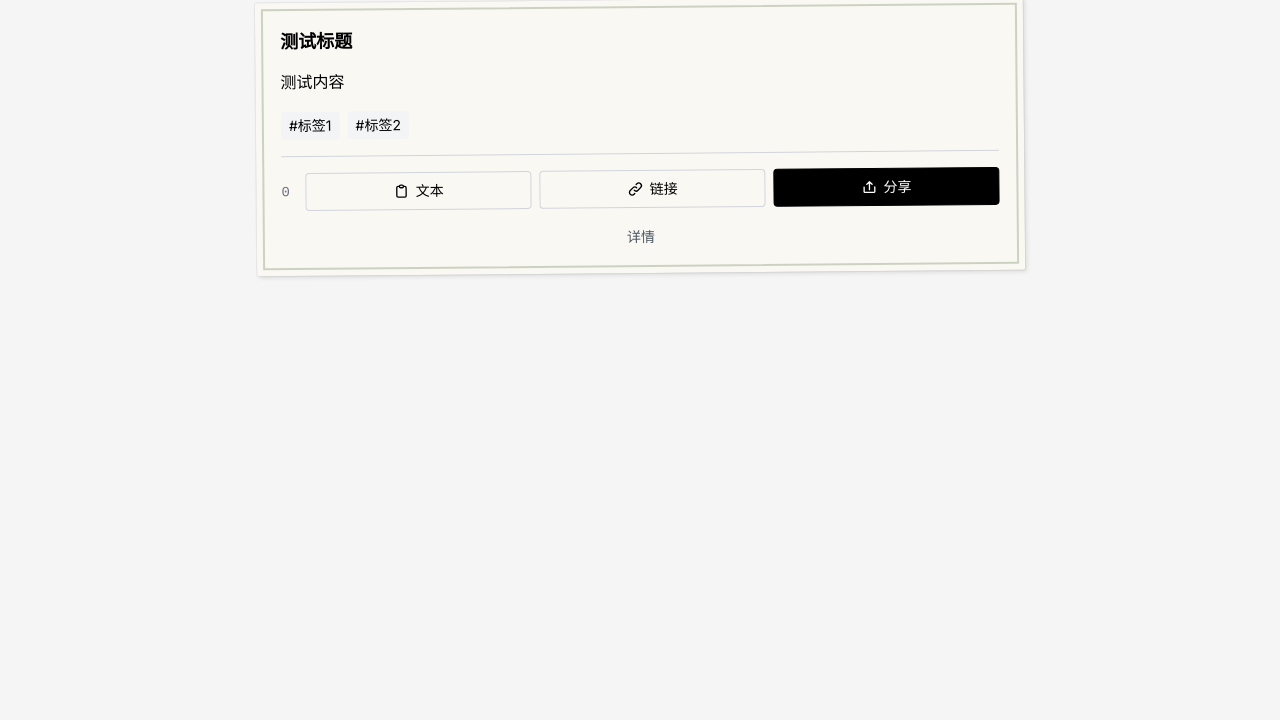
Test case: MemoCard › should close share modal when close button is clicked
Click the button "分享".
click(886, 187)  # box [773,167,1000,207]
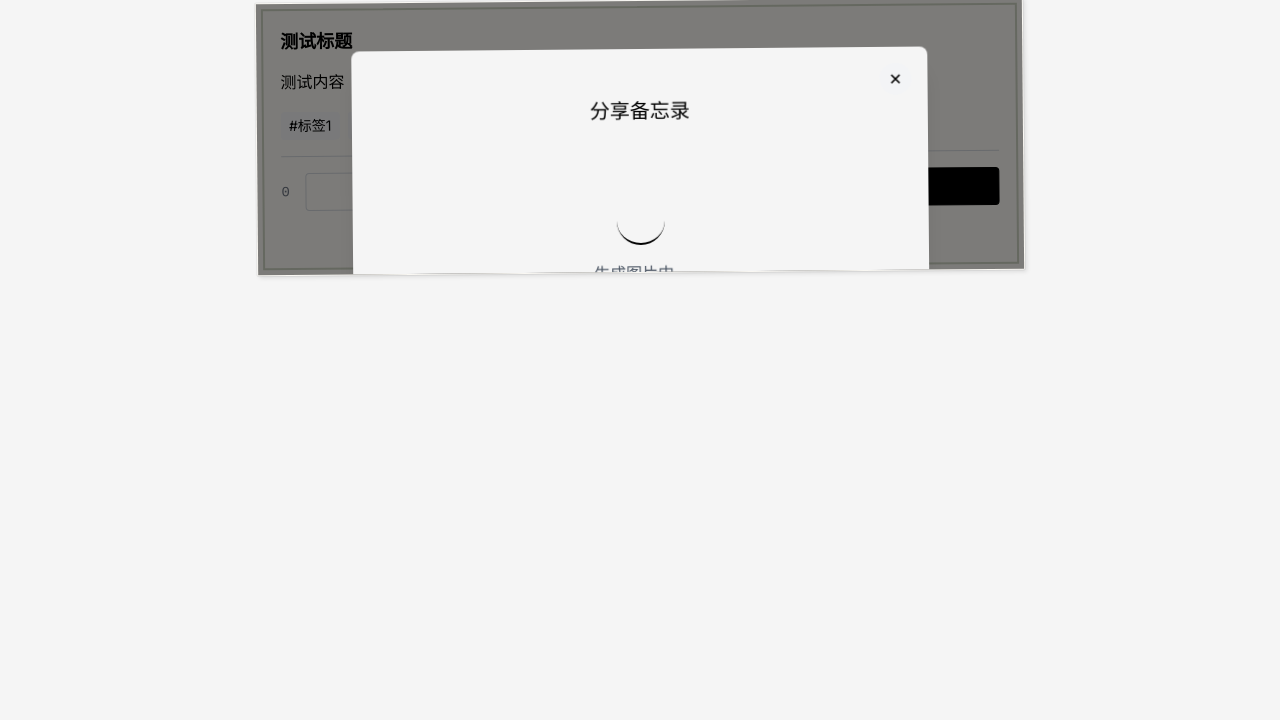
Result: the heading "分享备忘录" is shown at [590,99,690,124]
# Find and click close button using aria-label
Click the button labelled "✕".
click(896, 79)  # box [879,63,912,95]
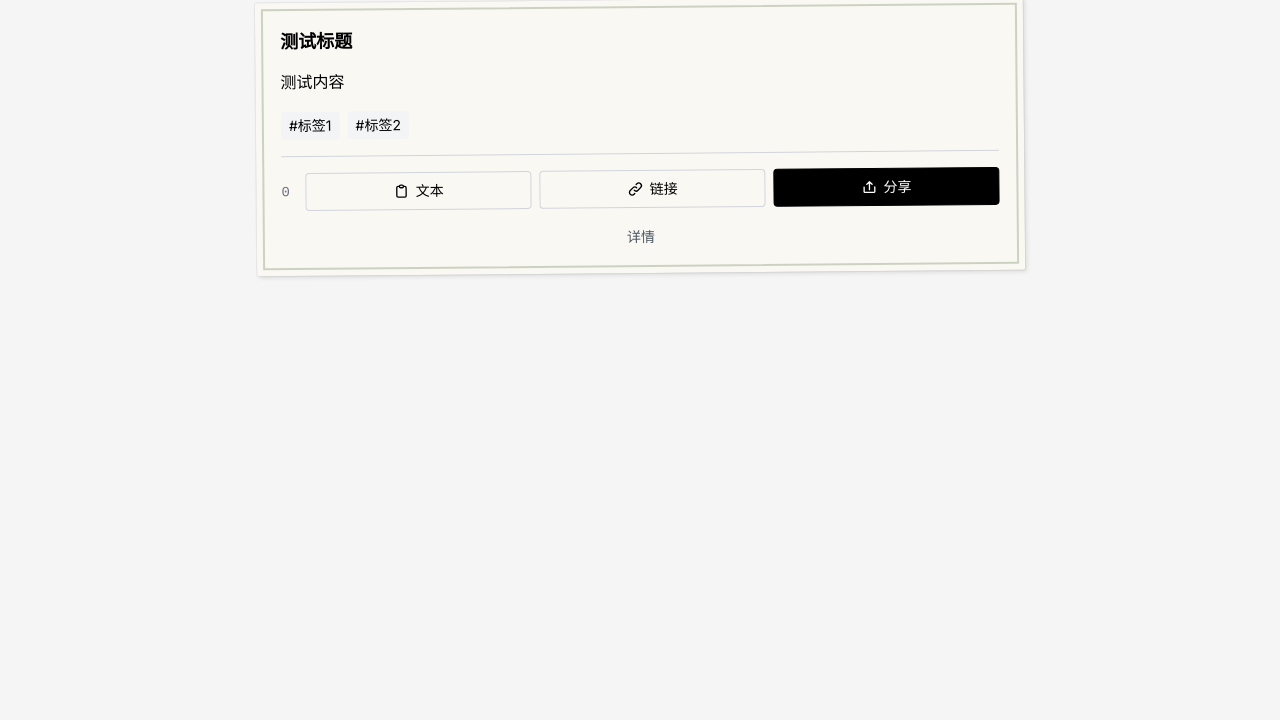
Result: the heading "分享备忘录" is gone
